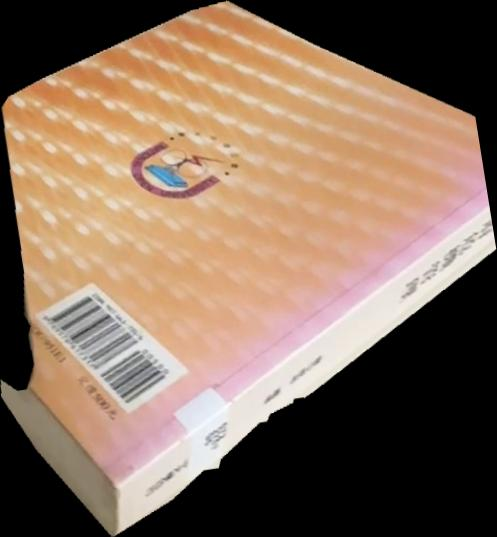flat: (1, 1, 497, 537)
